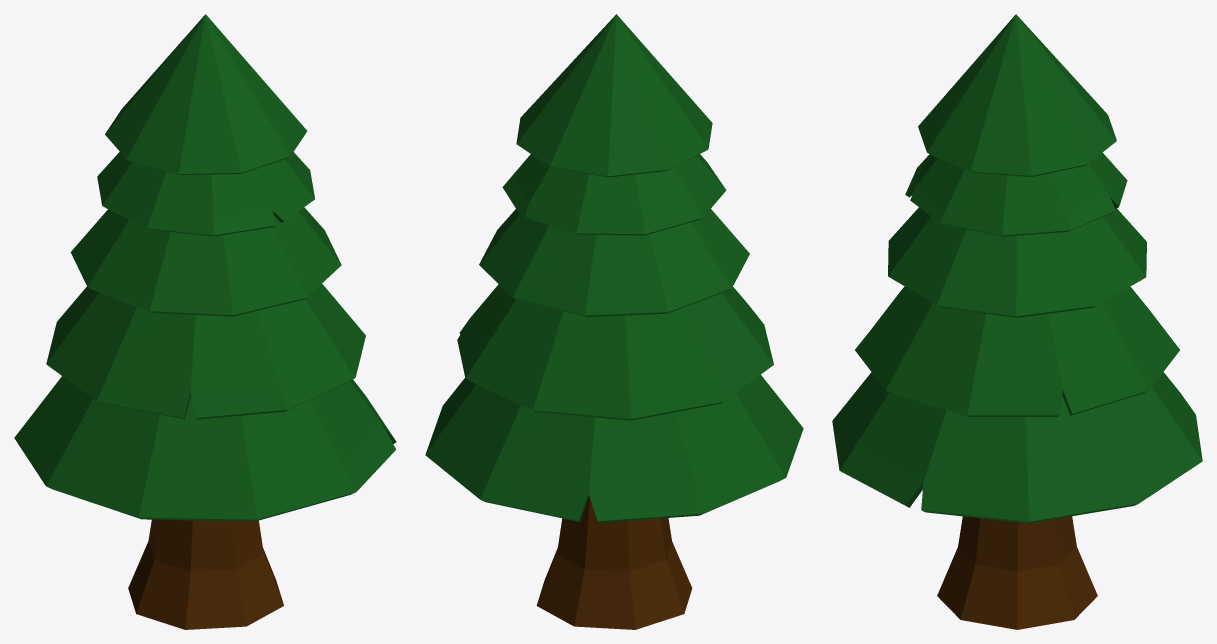
The model's file is three1.glb.
3 views of the same model, side by side, from view 1: azimuth 30°, elevation 25°; view 2: azimuth 150°, elevation 25°; view 3: azimuth 270°, elevation 25° (orthographic).
Parts seen in each view (by area): view 1: tree1.002; view 2: tree1.002; view 3: tree1.002.
Part boxes in pixels (x1,y1,x2,y2): tree1.002: (14, 14, 396, 629); tree1.002: (425, 14, 803, 629); tree1.002: (832, 14, 1202, 629).
Size of the model in its own units: 1.42 by 2.38 by 1.38.
